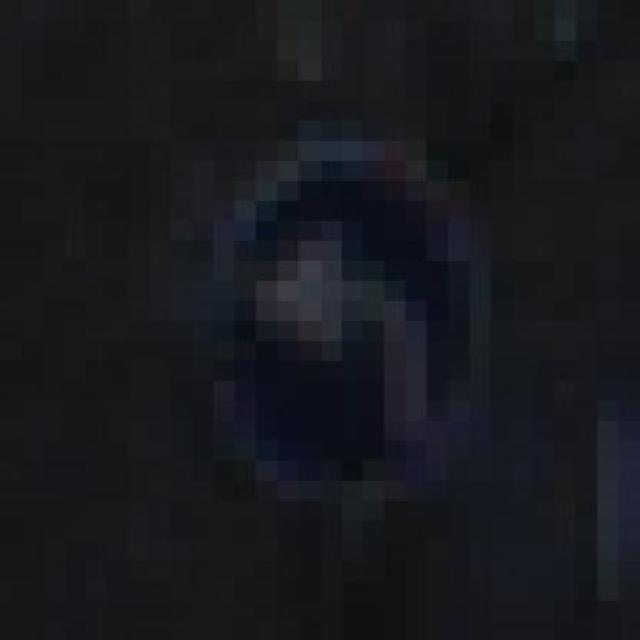Turn left ahead: (192, 120, 533, 500)
